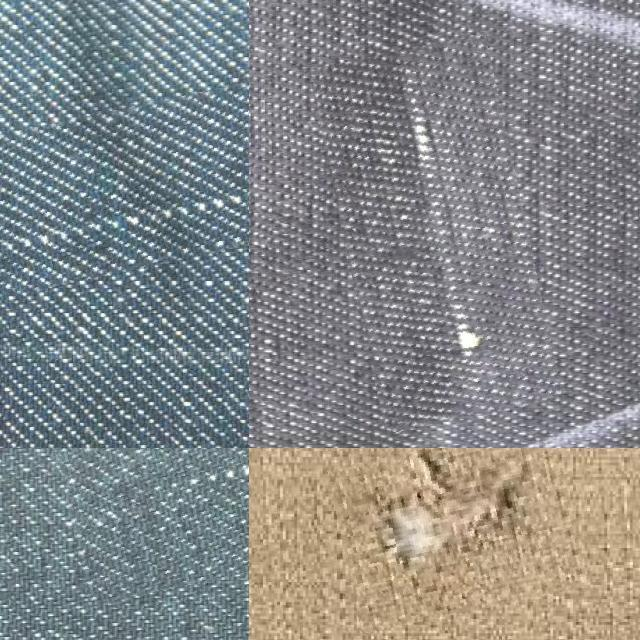other: (335, 448, 580, 622)
stains: (326, 38, 544, 426), (0, 102, 249, 318), (56, 448, 249, 591)
